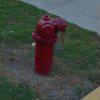Hydrant: (27, 5, 73, 79)
